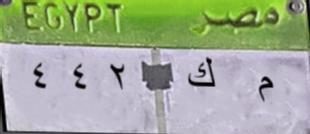2: (107, 60, 130, 97)
4: (29, 57, 53, 93), (68, 60, 89, 97)
kaaf: (185, 55, 221, 93)
meem: (251, 70, 277, 109)
